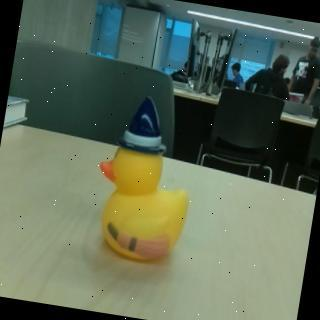duck_specialty: (85, 89, 207, 269)
